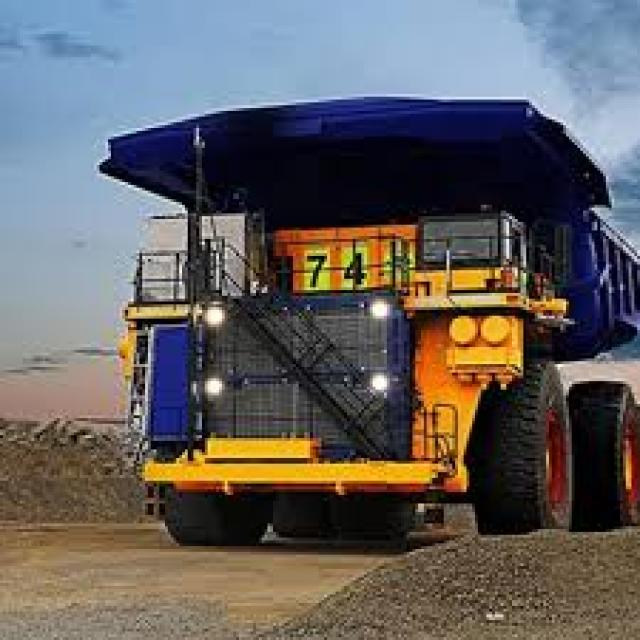dump_truck: (66, 77, 637, 583)
